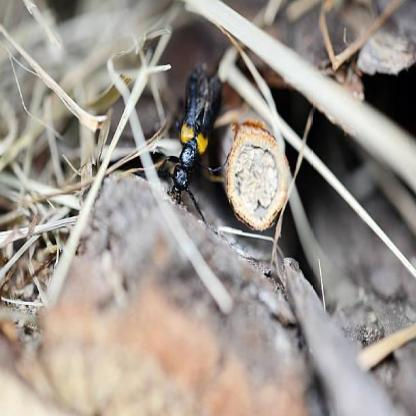beetle: (153, 60, 235, 220)
